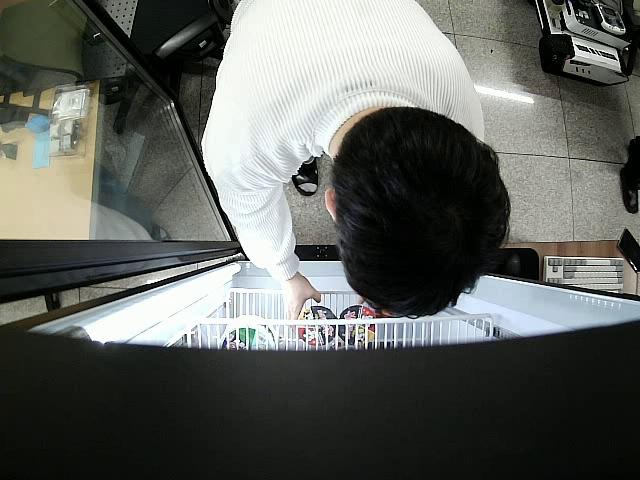00_hand: (283, 279, 321, 335)
08_buldak_S: (295, 305, 339, 345), (337, 305, 377, 349)
